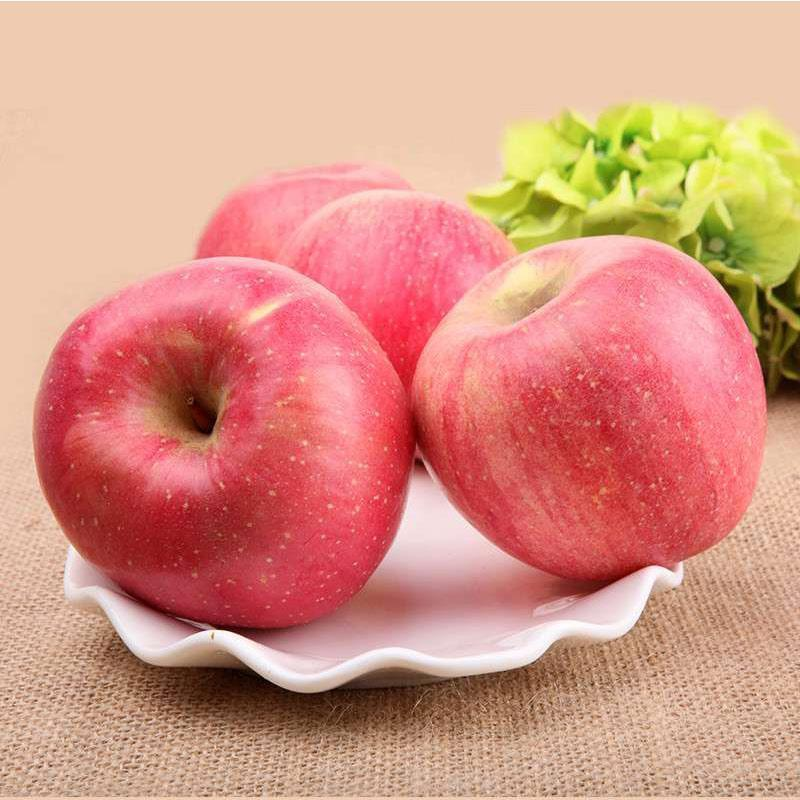apple: (40, 262, 416, 638), (418, 242, 769, 587)
